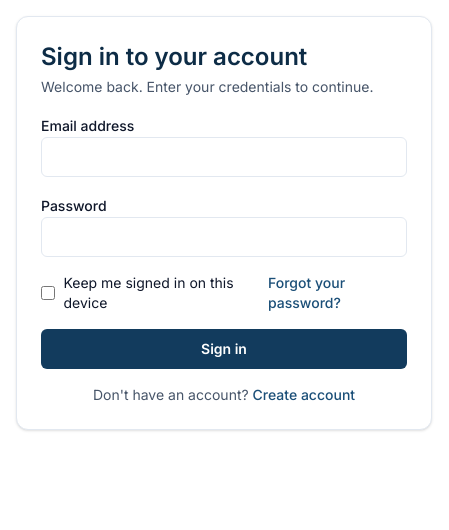
Test: LoginForm › shows API errors such as lockouts
The image size is (449, 530).
Type "ana@example.com" into the field labelled "Email address" at (224, 157), box [41,137,407,177]
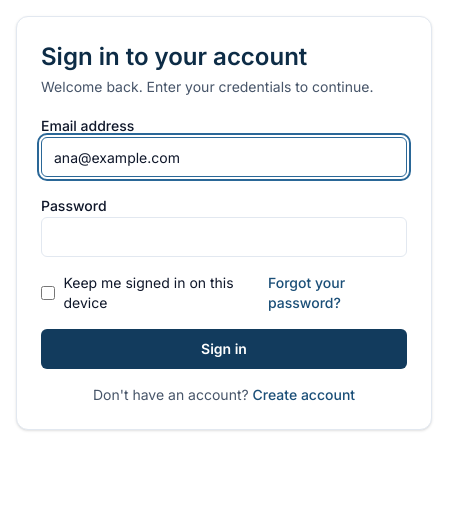
Type "x" into the password field labelled "Password" at (224, 237), box [41,217,407,257]
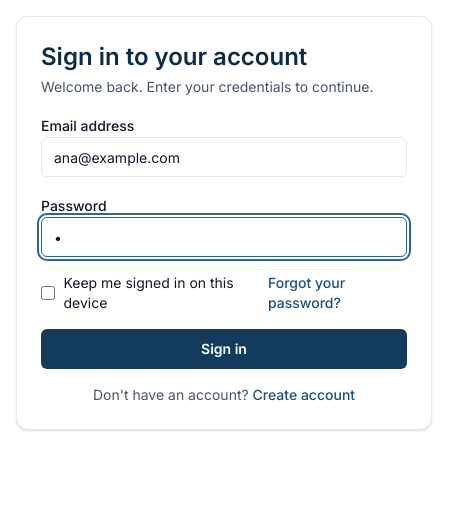
Click the button "Sign in" at (224, 349), box [41,329,407,369]
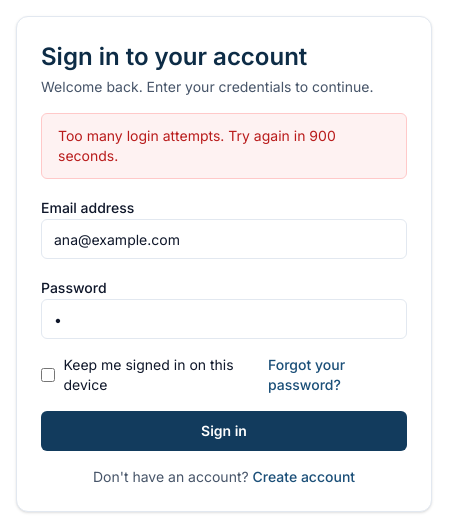
Expected: the message shows "Too many login attempts", [58,127,336,164]
